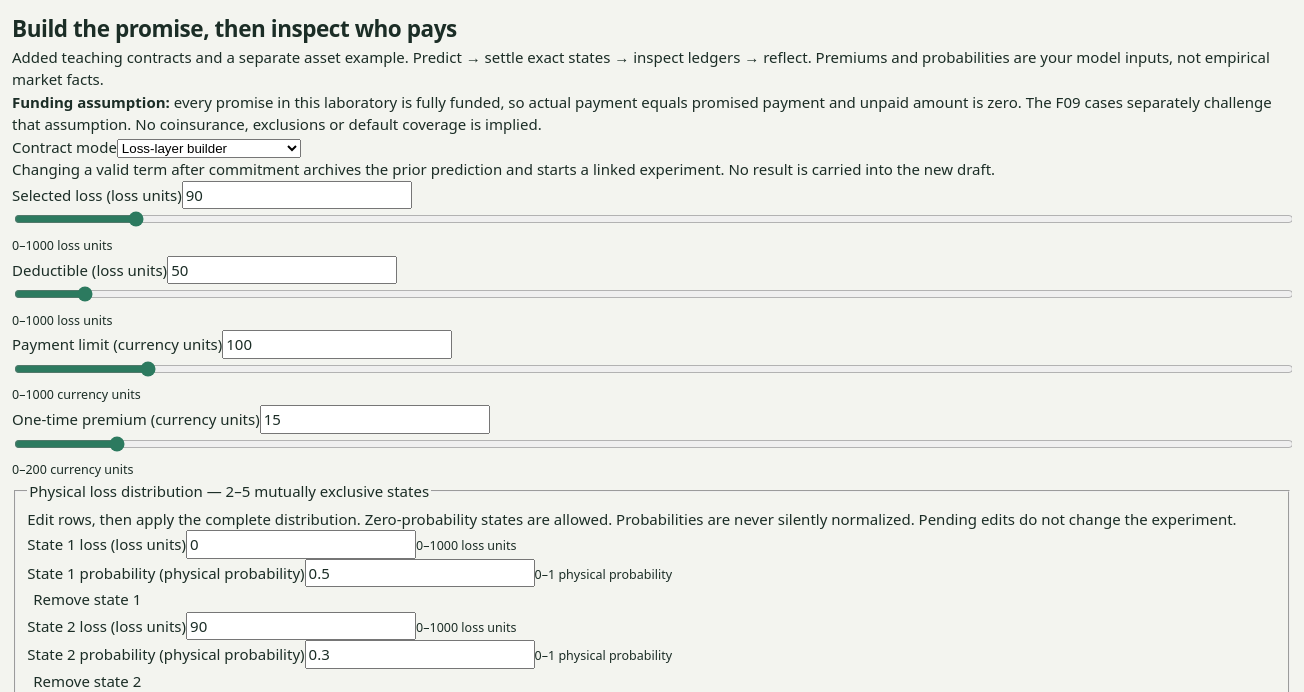
contracts view with frozen root controller › keeps invalid typed values visible and numeric/slider values synchronized
Replace the text in the number field labelled "Selected loss (loss units)" with "-1": (297, 195) x1=182 y1=181 x2=412 y2=209
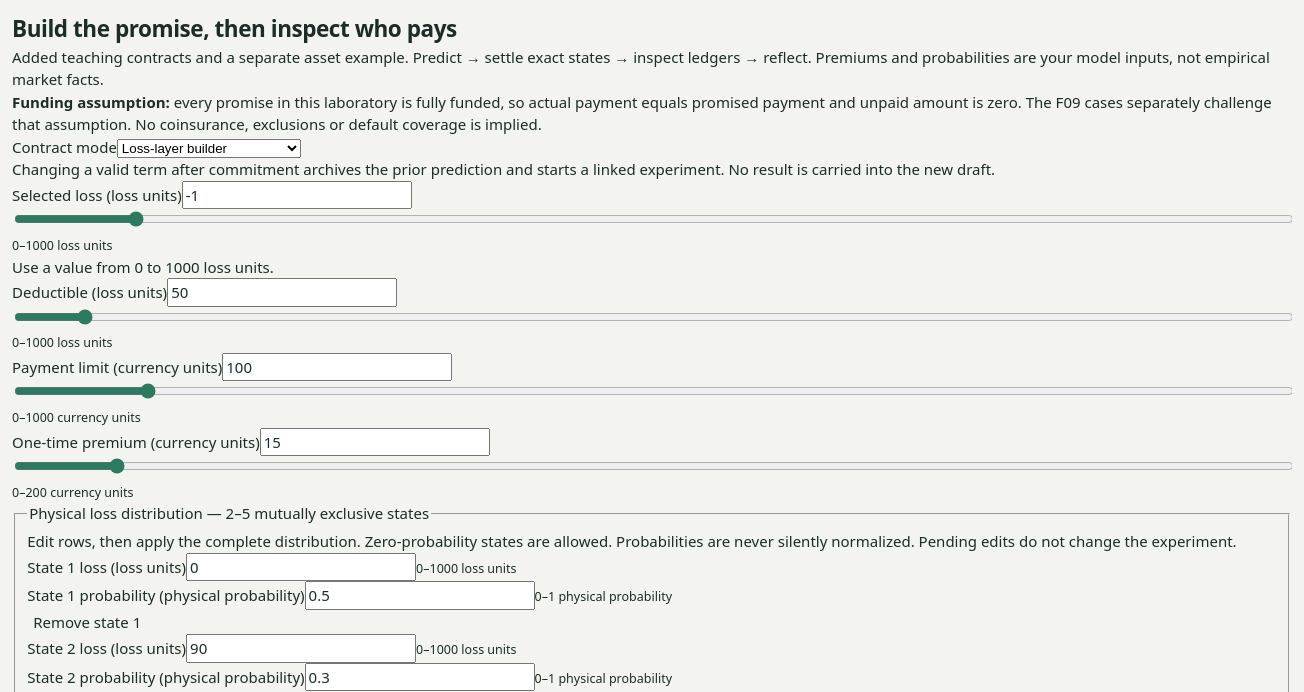
Now the number field labelled "Selected loss (loss units)" is marked as invalid, box x1=182 y1=181 x2=412 y2=209
Set the slider named "Selected loss slider (loss units)" below "Selected loss" to "250": (338, 219) x1=14 y1=211 x2=1292 y2=227
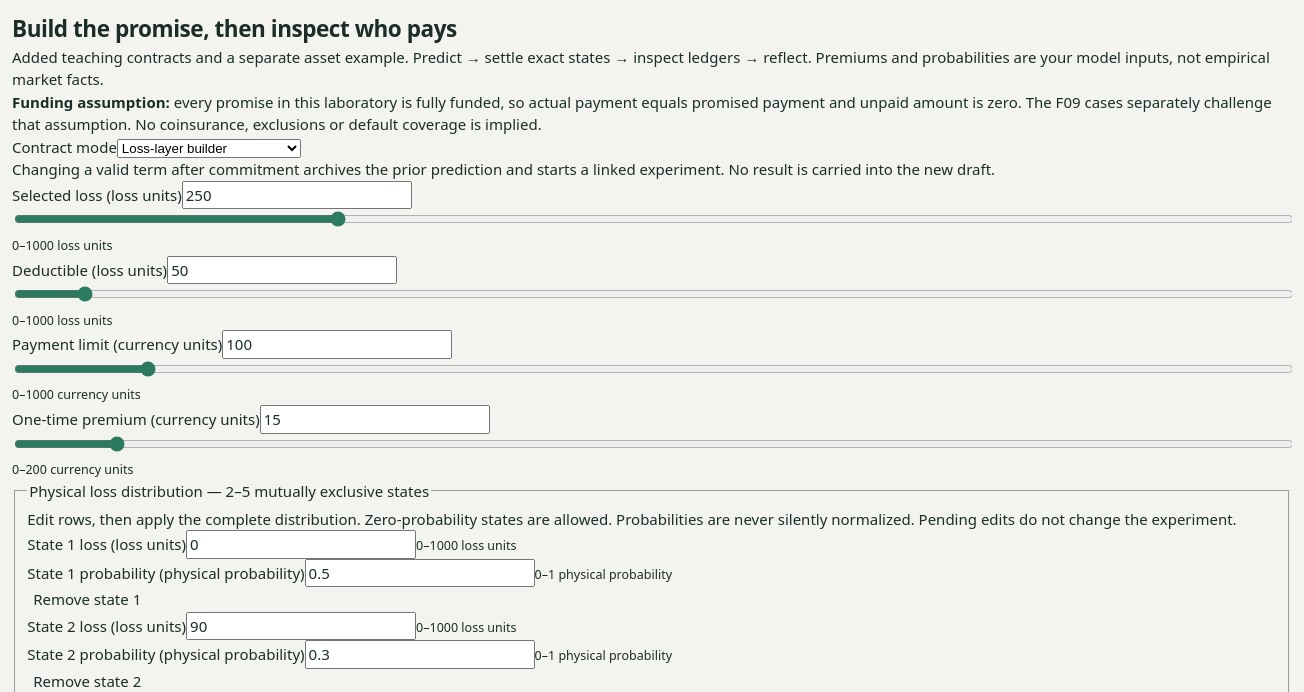
Now the number field labelled "Selected loss (loss units)" holds "250", box x1=182 y1=181 x2=412 y2=209
